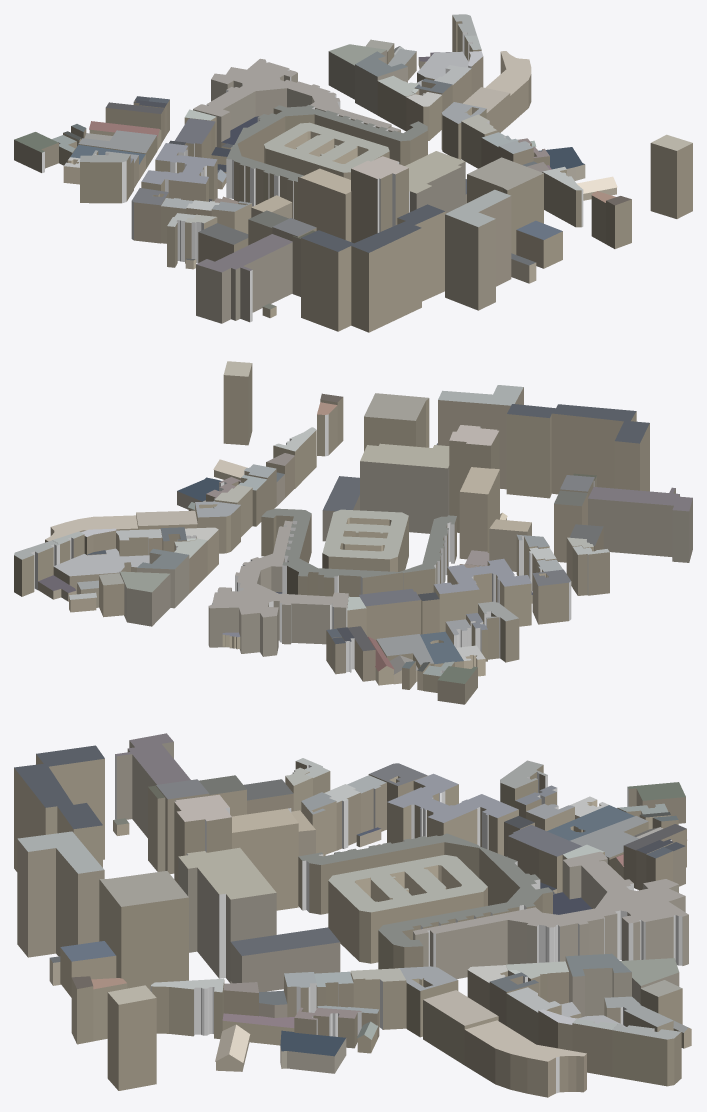
3 views of the same model, one above another, from view 1: azimuth 30°, elevation 25°; view 2: azimuth 150°, elevation 25°; view 3: azimuth 270°, elevation 25° (orthographic). The views are drawn at different scales.
Parts seen in each view (by area): view 1: tuile; view 2: tuile; view 3: tuile.
Part boxes in pixels (x1,y1,x2,y2): tuile: (14, 14, 692, 332); tuile: (14, 361, 692, 704); tuile: (14, 733, 691, 1097).
Size of the model in its own units: 282 by 53 by 271.
